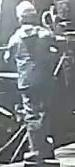helmet: (16, 0, 37, 19)
vest: (6, 26, 51, 88)
